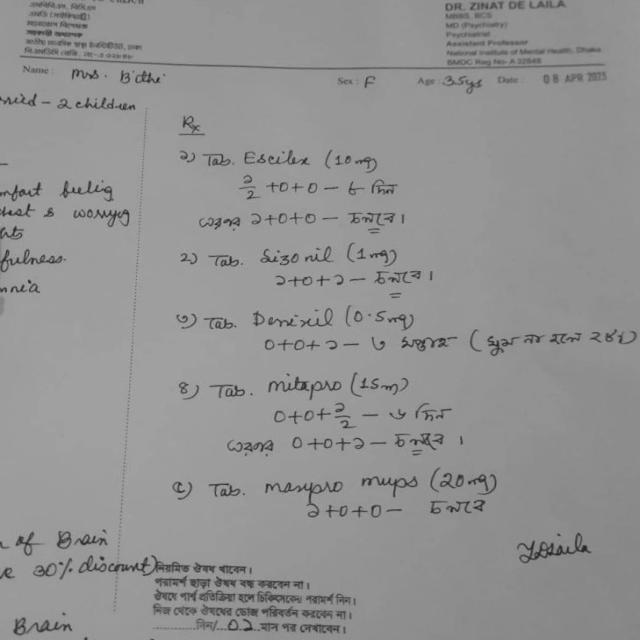medicine: (258, 471, 422, 501), (240, 302, 338, 336), (262, 368, 346, 401), (255, 241, 336, 272), (238, 144, 316, 174)
